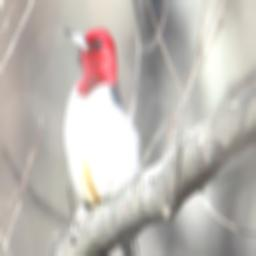Woodpecker: (60, 27, 145, 256)
